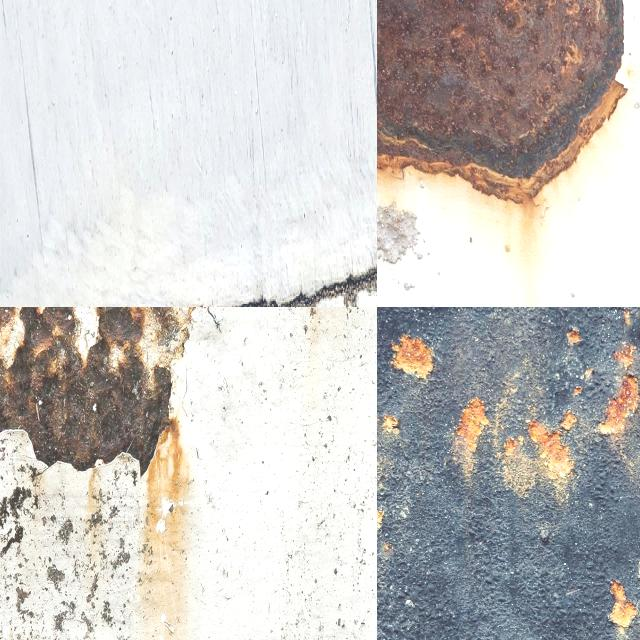Crack: (256, 266, 377, 307)
Pitting Corrosion: (377, 0, 626, 202)
Uniform Corrosion: (499, 410, 575, 492), (597, 375, 640, 437), (456, 398, 488, 473), (392, 334, 433, 379), (608, 580, 638, 630)
